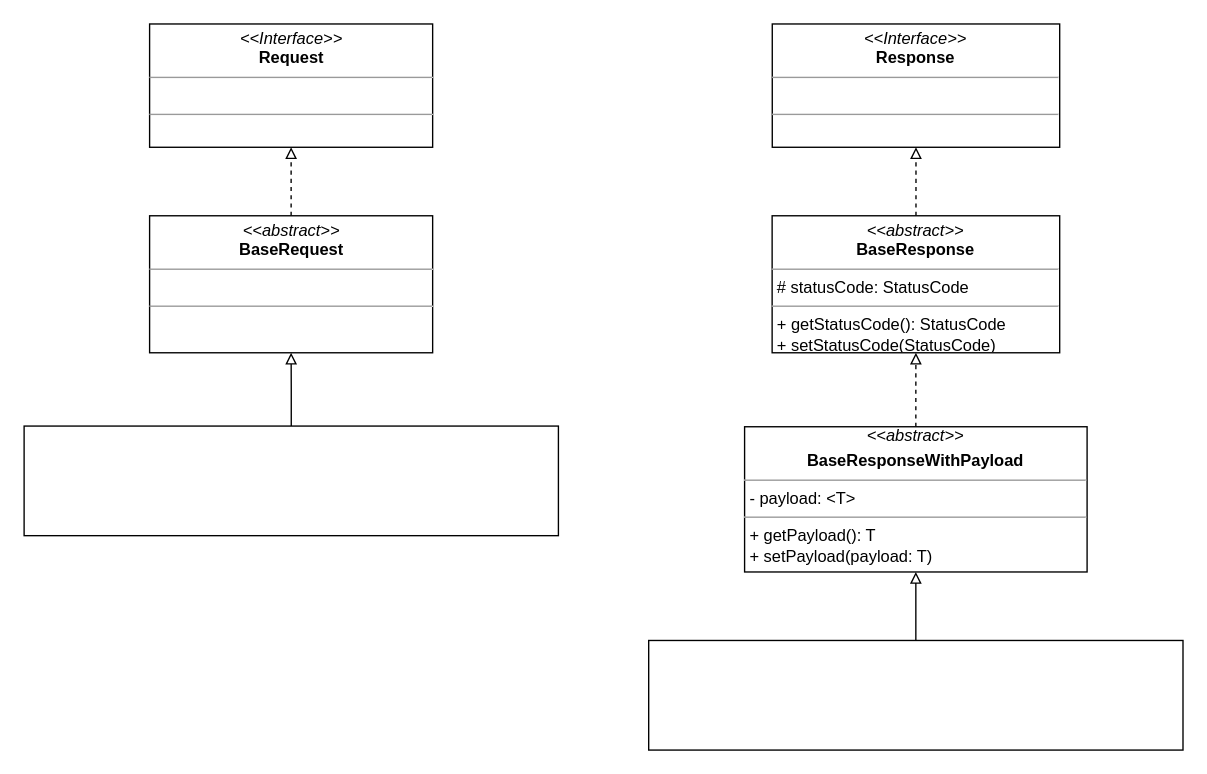
Image size: 1207x774. Some labels were removed from this diagram. Each missing label, with the centre of its shape:
"PutSubmodelRequest - submodel: Submodel" belongs at pixel 290 480.
"PutSubmodelResponse - payload: Submodel" belongs at pixel 915 694.
